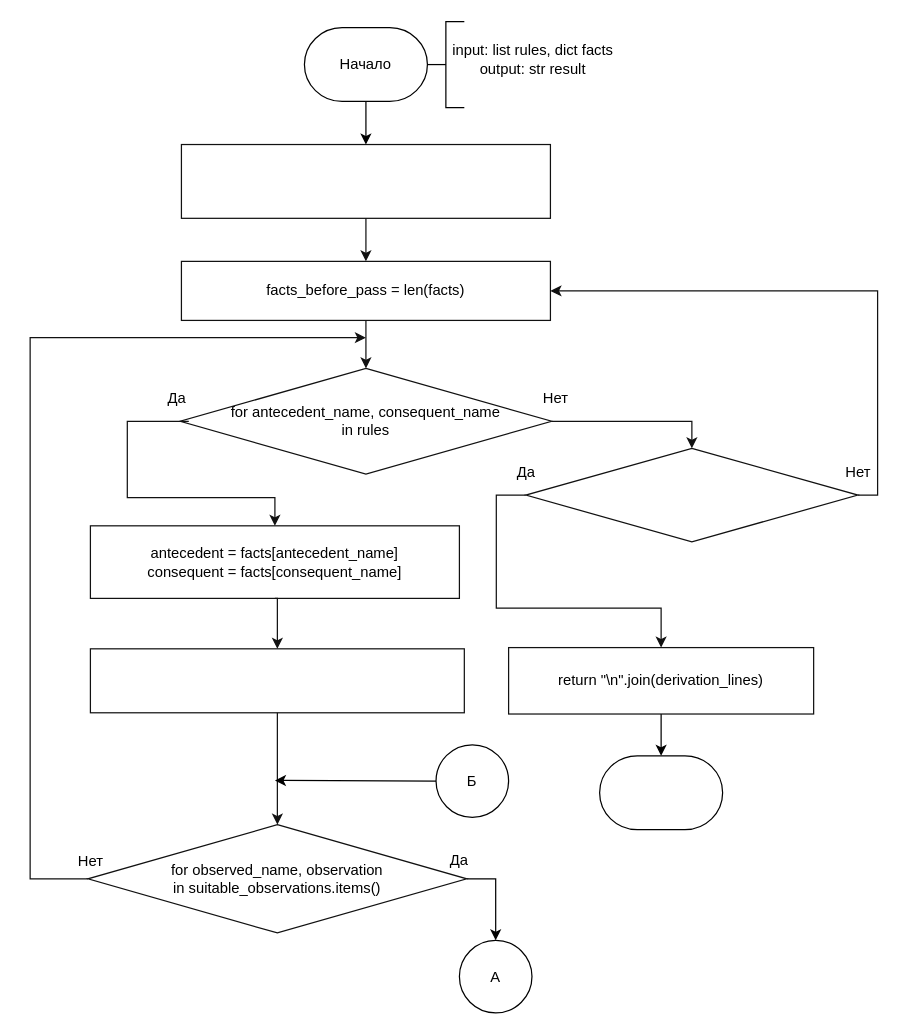
Some shapes in this 909 by 1034 pixel diagram are drawn without their labels. The shapes that lost their labels are listed below. From the top down, each one's box as (x1, y1, x2, y2) in pixels, then its label:
(180, 143, 550, 218): derivation_lines = [] already_reported = []
(525, 447, 858, 542): len(facts) == facts_before_pass
(89, 648, 464, 713): suitable_observations = find_compatible_facts(antecedent, facts)
(598, 755, 723, 830): Конец
